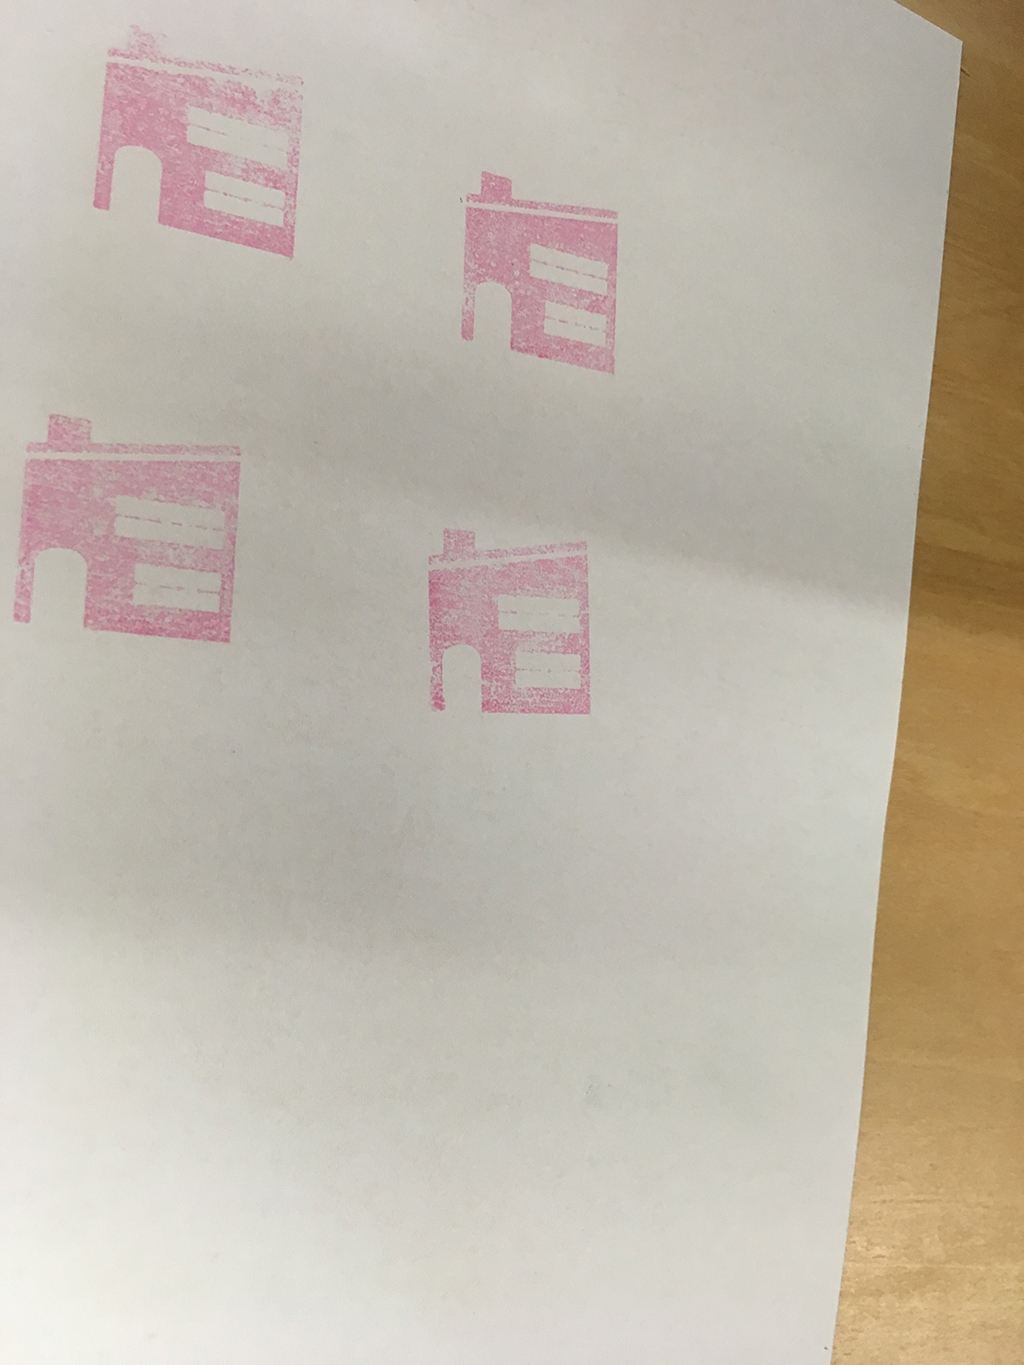house: (60, 17, 325, 282), (1, 404, 255, 667), (406, 504, 627, 739), (439, 155, 648, 386)
